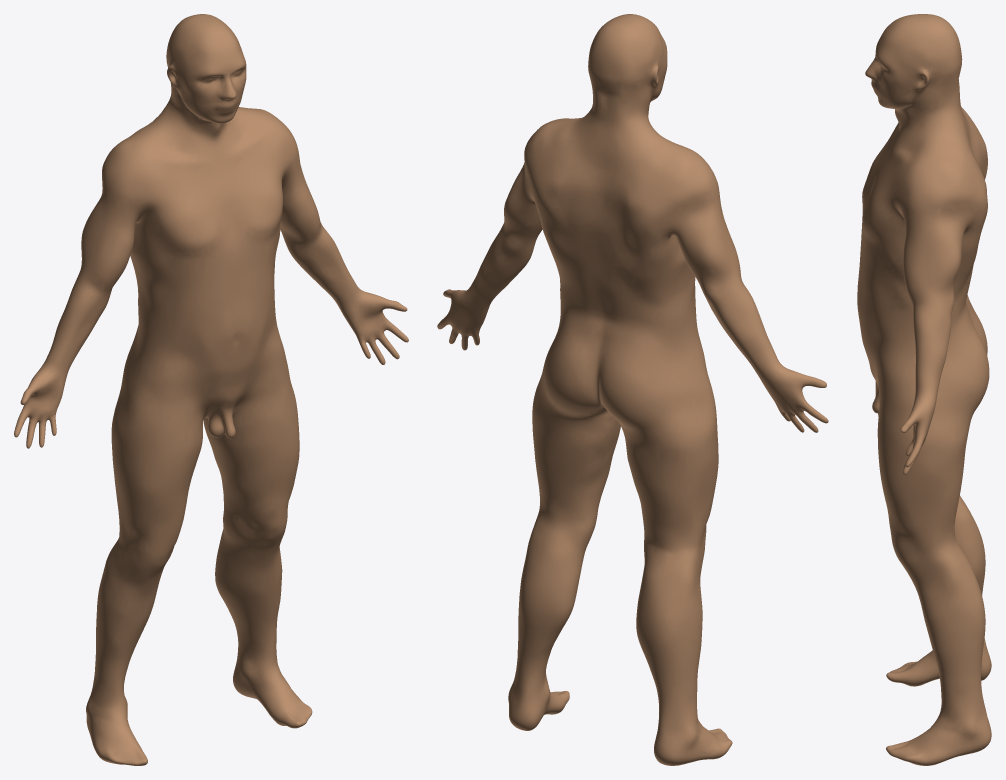
Rendered from body-male-skin-standard.glb.
3 renders of one model, left to right at view 1: azimuth 30°, elevation 25°; view 2: azimuth 150°, elevation 25°; view 3: azimuth 270°, elevation 25°, orthographic. The views are drawn at different scales.
Visible parts, largest first — view 1: male_body_base; view 2: male_body_base; view 3: male_body_base.
Part boxes in pixels (x1=…): male_body_base: x1=14, y1=14, x2=408, y2=765; male_body_base: x1=437, y1=14, x2=828, y2=765; male_body_base: x1=857, y1=14, x2=991, y2=765.
Size of the model in its own units: 1.05 by 1.83 by 0.3162.
